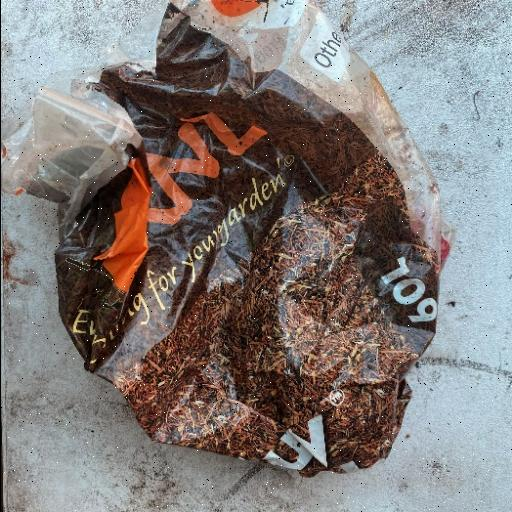Plastic: (49, 3, 449, 479)
